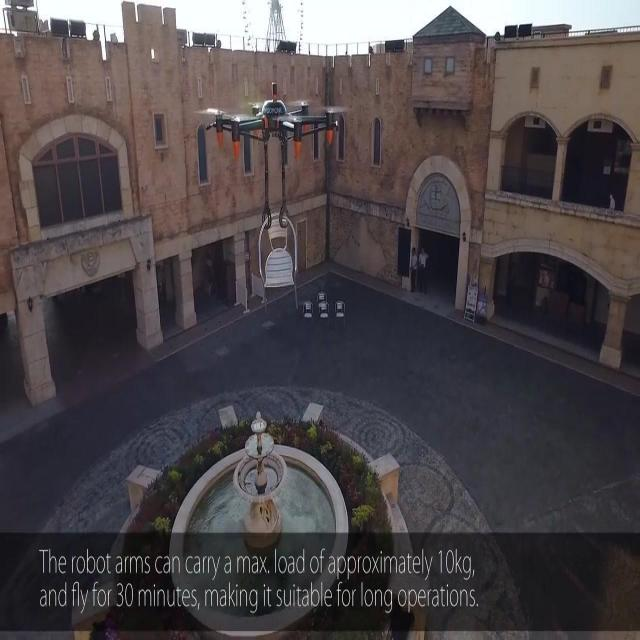UAV: (194, 81, 350, 230)
